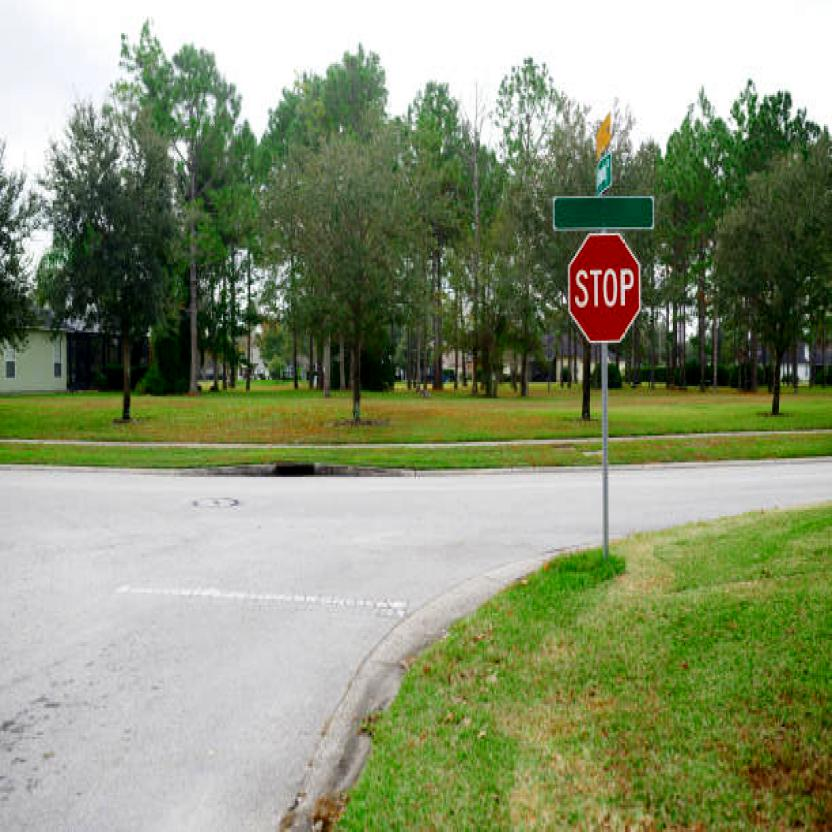Pole: (600, 343, 610, 553)
Sign: (568, 232, 642, 344)
